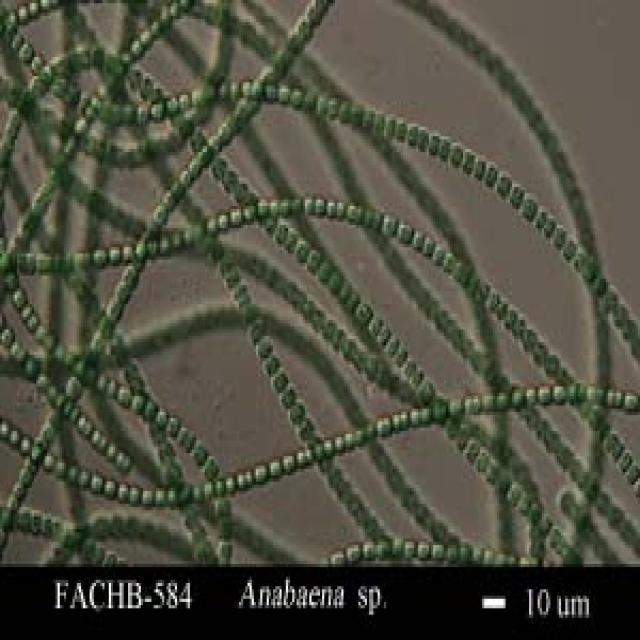Blue Green Algae: (260, 352, 284, 377), (36, 247, 54, 279), (8, 336, 26, 364), (115, 279, 132, 307), (17, 462, 34, 488), (275, 76, 290, 105), (563, 234, 578, 263), (17, 38, 34, 63), (17, 434, 36, 456), (552, 380, 568, 406), (360, 535, 376, 561), (520, 190, 534, 219), (326, 92, 339, 123), (90, 244, 106, 269), (10, 282, 26, 307), (424, 133, 440, 158), (262, 76, 278, 101), (177, 424, 192, 450), (446, 139, 461, 165), (192, 440, 205, 469), (290, 82, 303, 111), (177, 165, 192, 190), (418, 377, 433, 402), (318, 257, 333, 282), (397, 218, 414, 240), (105, 298, 122, 320), (138, 25, 152, 51), (322, 431, 335, 459), (497, 168, 510, 196), (380, 212, 394, 238), (506, 478, 520, 504), (362, 104, 376, 130), (177, 79, 188, 111), (106, 241, 122, 263), (90, 472, 106, 494), (102, 476, 118, 498), (138, 488, 154, 510), (522, 384, 538, 406), (614, 450, 630, 472), (540, 380, 552, 409), (143, 399, 158, 422), (463, 143, 474, 174), (486, 159, 497, 190), (271, 370, 288, 390), (115, 380, 128, 406), (115, 478, 128, 504), (369, 307, 382, 333), (339, 98, 352, 124), (350, 101, 363, 127), (474, 149, 486, 177), (429, 538, 444, 560), (288, 402, 303, 424), (354, 301, 369, 323), (416, 539, 429, 564), (147, 95, 164, 114), (623, 393, 640, 412), (312, 193, 326, 216), (268, 193, 282, 216), (422, 228, 433, 257), (134, 102, 148, 124), (76, 466, 90, 488), (280, 450, 294, 472), (332, 434, 346, 456), (392, 120, 406, 142), (296, 234, 310, 256), (280, 386, 294, 408), (202, 453, 218, 472), (234, 469, 250, 488), (378, 415, 390, 440), (508, 184, 520, 209), (536, 203, 548, 228), (128, 390, 141, 412), (167, 415, 180, 437), (128, 482, 141, 504), (254, 462, 267, 484), (390, 529, 401, 555), (160, 184, 173, 206), (405, 120, 416, 146), (437, 136, 448, 162), (273, 222, 286, 244), (448, 396, 461, 418), (256, 336, 271, 355), (254, 197, 269, 216), (288, 197, 303, 216), (154, 408, 168, 428), (120, 244, 134, 263), (346, 542, 358, 564), (216, 209, 228, 231), (250, 314, 262, 336), (250, 80, 262, 102), (376, 536, 390, 554), (553, 225, 563, 250), (373, 111, 386, 130), (269, 460, 284, 476), (416, 123, 425, 149), (43, 450, 53, 472), (154, 485, 164, 507), (408, 402, 418, 424), (405, 538, 416, 558), (286, 228, 296, 250), (476, 447, 486, 469), (188, 156, 200, 174), (346, 200, 358, 218), (480, 389, 491, 408), (393, 409, 401, 434), (326, 190, 335, 212), (307, 244, 316, 266), (9, 428, 19, 447), (56, 459, 66, 478), (130, 41, 141, 57), (230, 206, 241, 222), (414, 225, 422, 247), (388, 336, 395, 358), (303, 194, 311, 212)
